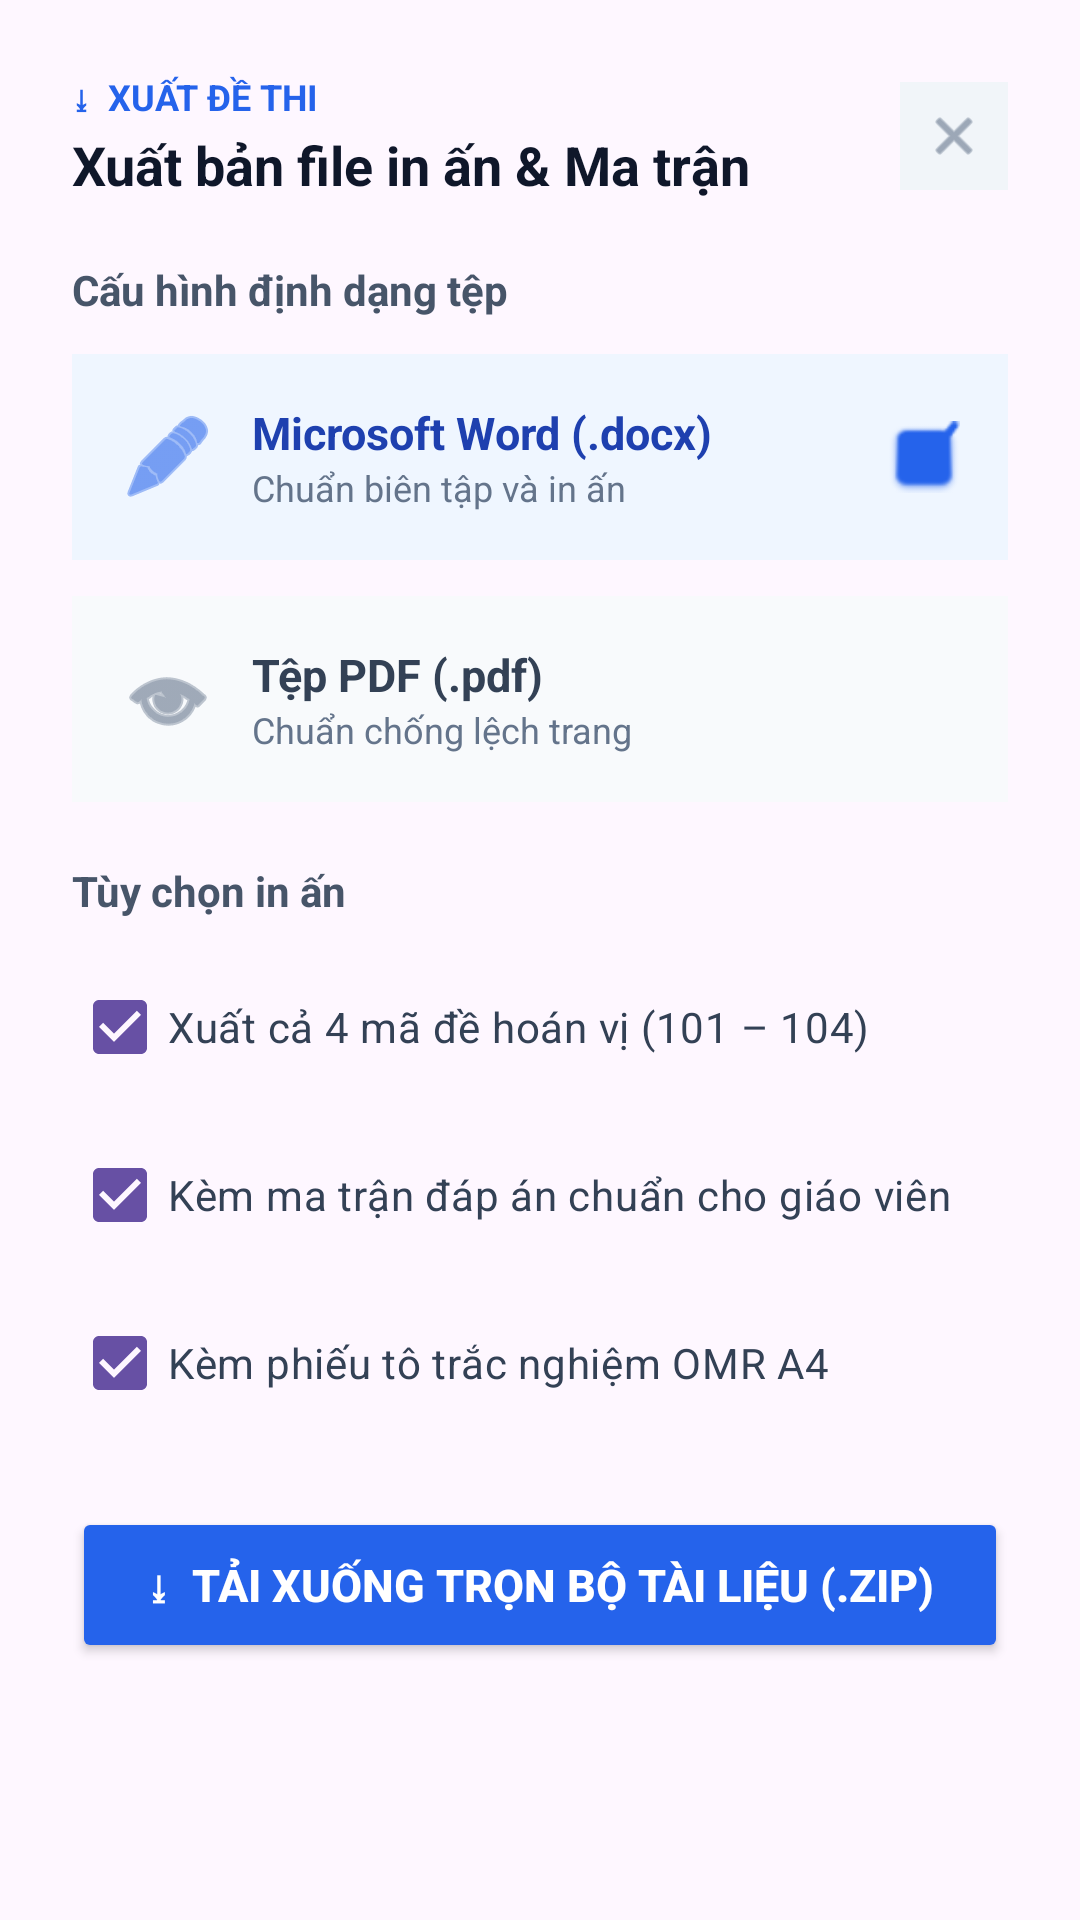

Icon bounding boxes for this 1080 x 1920 phone screenshot, format bbox=[x1, y1, x2, y2]:
close clear cancel: bbox=[900, 82, 1008, 190]
edit: bbox=[127, 416, 208, 497]
view: bbox=[129, 677, 207, 726]
